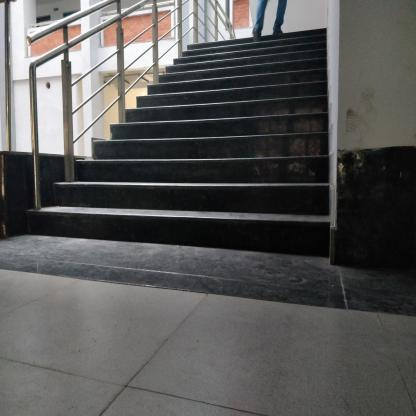stairs: (113, 116, 323, 274)
